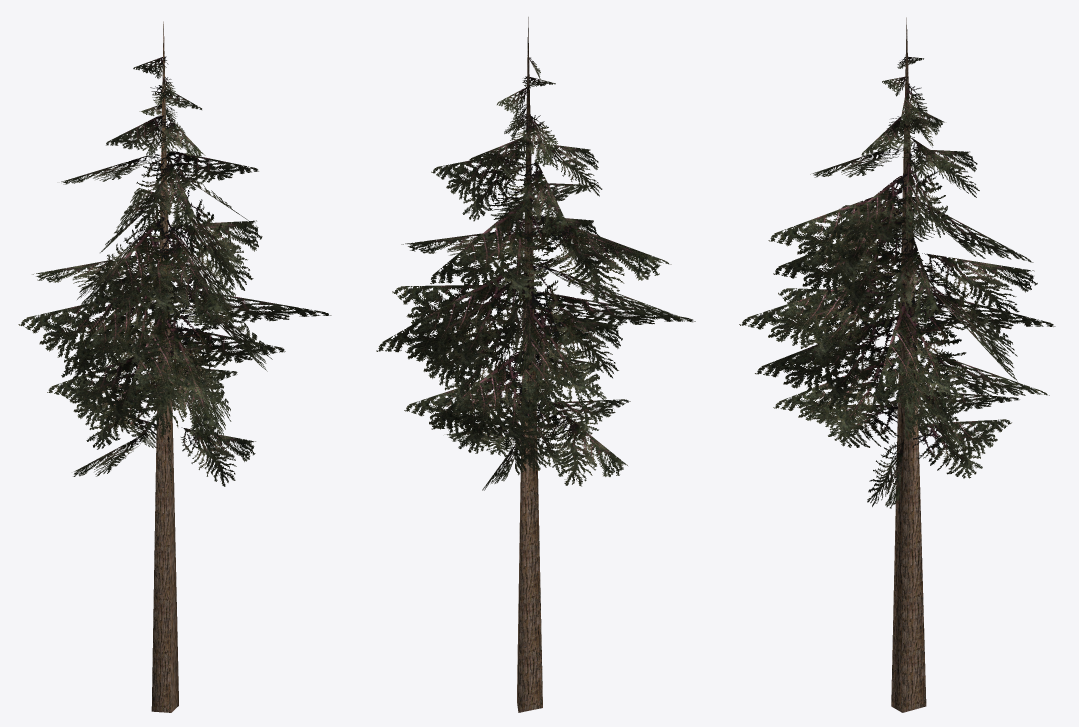
The model's file is ever_pinetree_large_l1.fbx.
The picture shows the model from 3 angles, left to right: view 1: azimuth 30°, elevation 25°; view 2: azimuth 150°, elevation 25°; view 3: azimuth 270°, elevation 25°; orthographic projection.
Parts seen in each view (by area): view 1: mesh_node; view 2: mesh_node; view 3: mesh_node.
Part boxes in pixels (left/top/right/bottom): mesh_node: left=18, top=21, right=331, bottom=712; mesh_node: left=376, top=17, right=695, bottom=712; mesh_node: left=739, top=17, right=1055, bottom=712.
Bounding box in the file's own units: 8.84 × 19.76 × 8.58.
